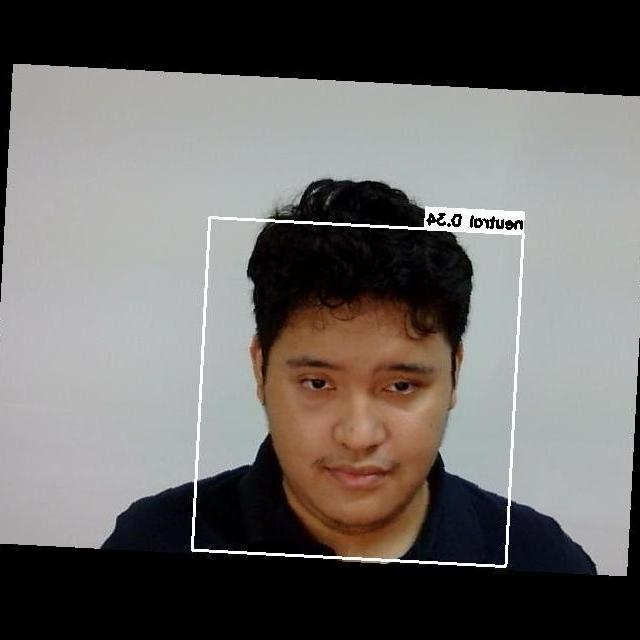Sad: (267, 324, 434, 522)
